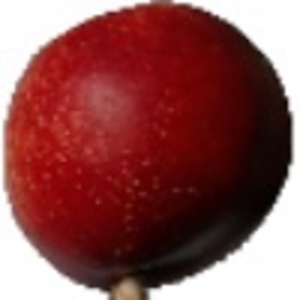nectarina: (2, 1, 293, 300)
